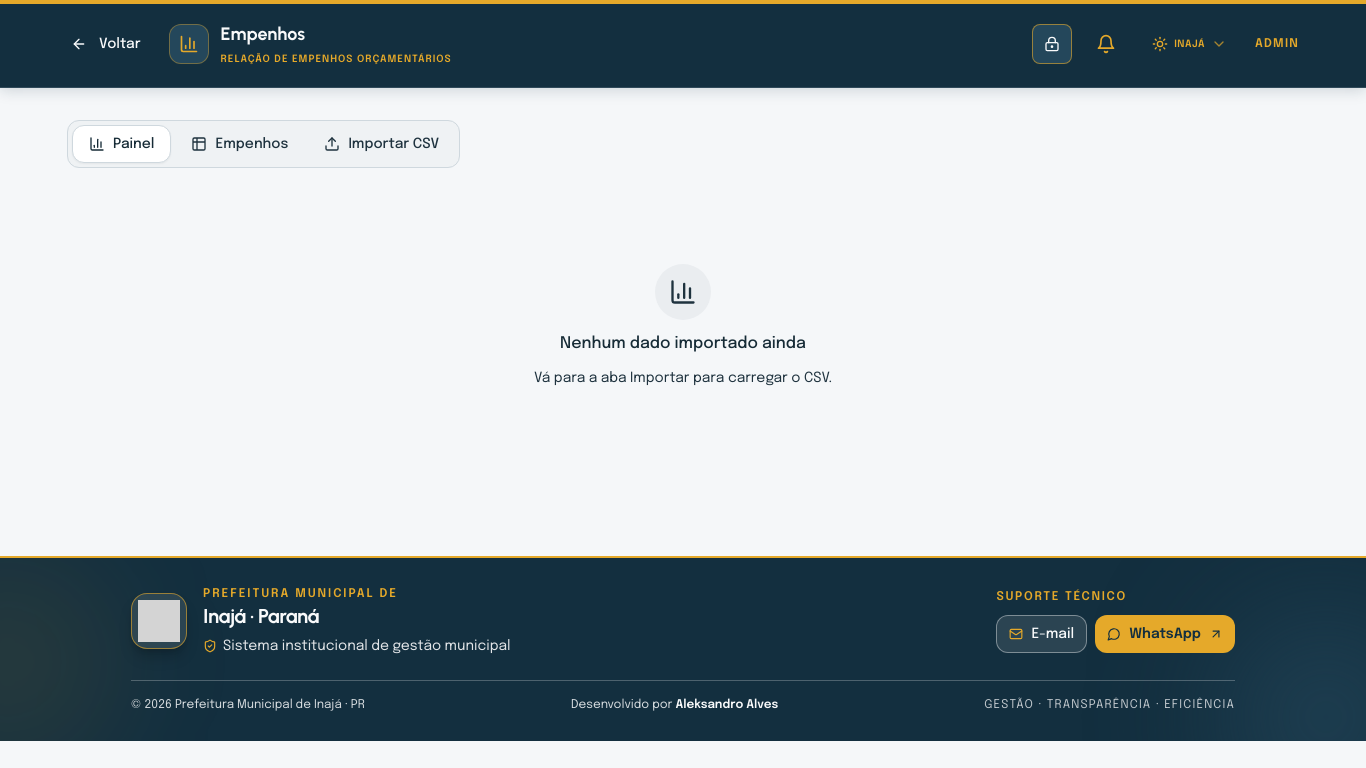
Test case: Empenhos – Tabela com filtros › abre o painel de detalhe ao clicar em uma linha
Click the tab "Empenhos" at (240, 144), box [176, 125, 304, 163]
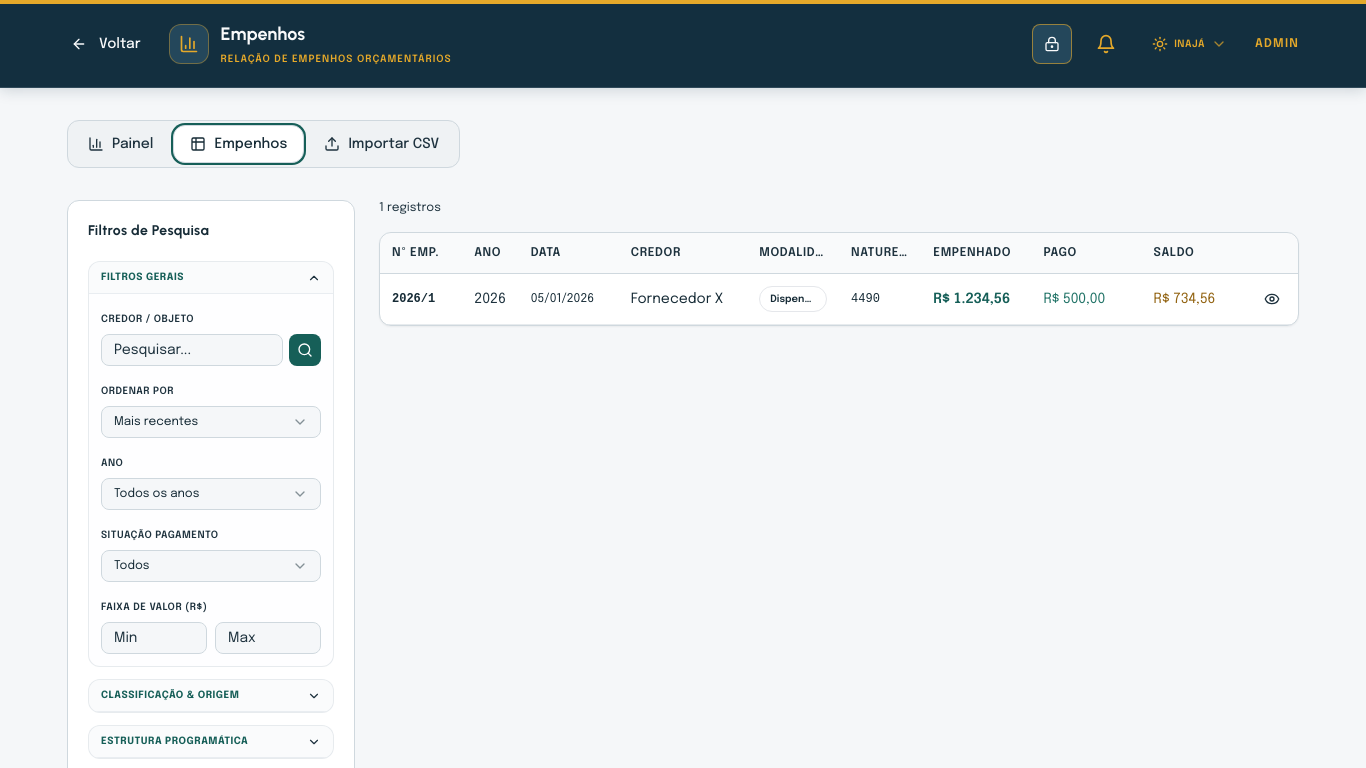
Click the button "Fornecedor X" at (414, 299), box [380, 274, 1298, 324]
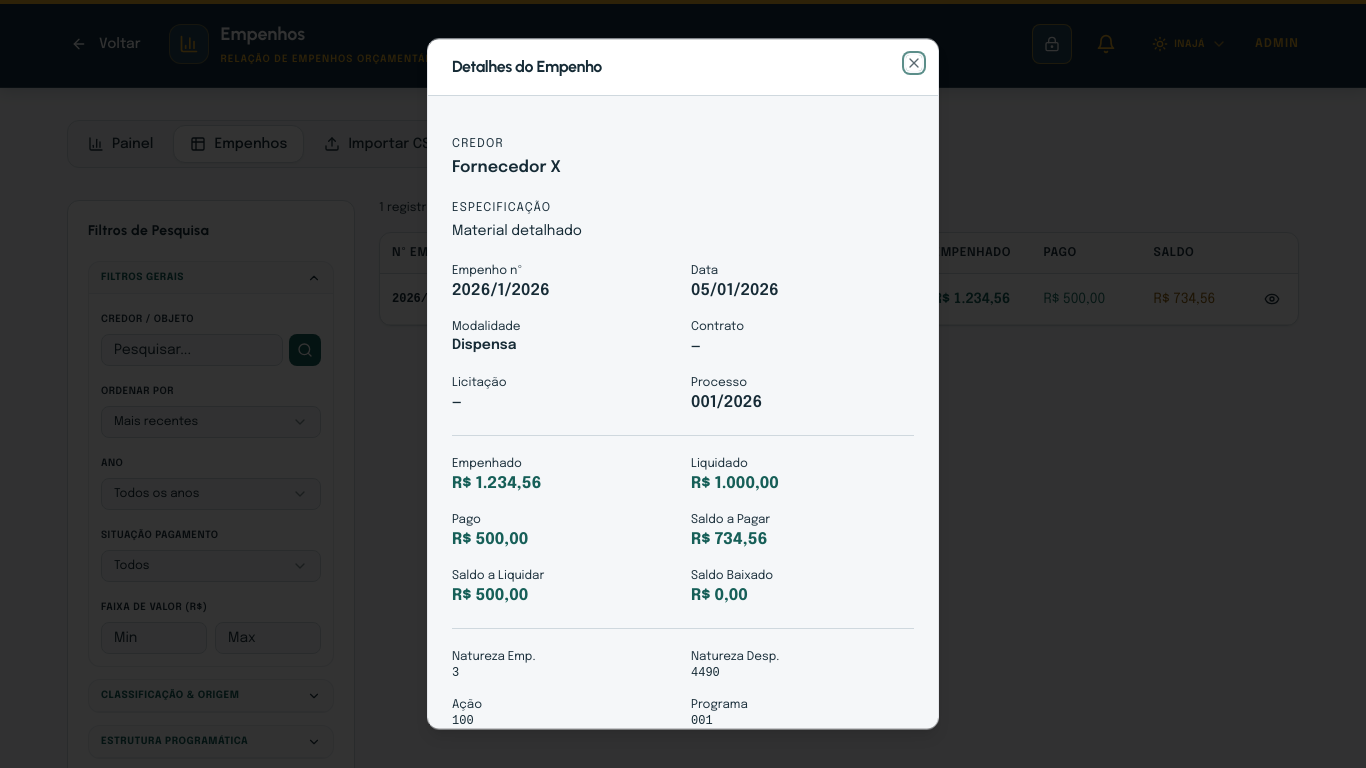
Check: the text "Material detalhado" is shown, box [452, 224, 582, 238]
Check: the text "Fornecedor X" is shown, box [452, 159, 561, 176]
